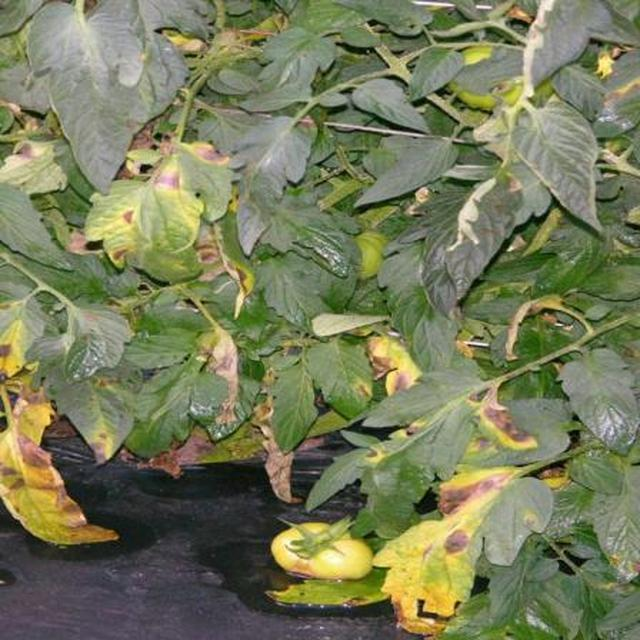Early Blight Leaf: (35, 82, 640, 640)
